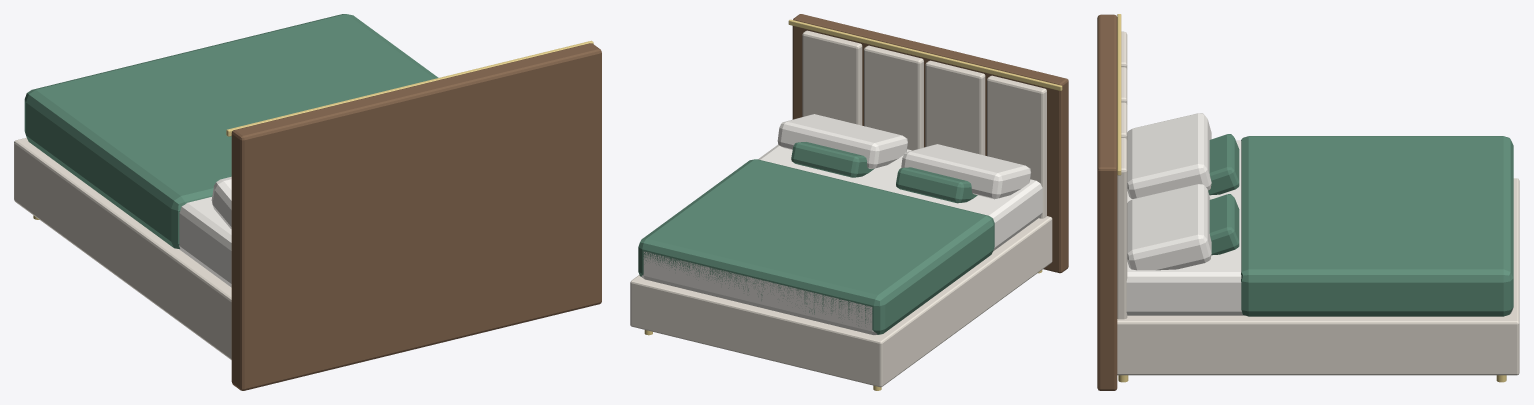
Rendered from yatak-baza.glb.
3 views of the same model, side by side, from view 1: azimuth 30°, elevation 25°; view 2: azimuth 150°, elevation 25°; view 3: azimuth 270°, elevation 25° (orthographic). The views are drawn at different scales.
Visible parts, largest first — view 1: Bed_Headboard_Frame, Bed_Duvet, Bed_Base, Bed_Mattress, Bed_Head_Gold_Trim, Bed_Pillow_Back; view 2: Bed_Duvet, Bed_Base, Bed_Mattress, Bed_Headboard_Frame, Bed_Head_Panel_0, Bed_Head_Panel_2, Bed_Head_Panel_1, Bed_Head_Panel_3, Bed_Pillow_Back, Bed_Pillow_Back.001, Bed_Pillow_Front.001, Bed_Pillow_Front (+1 smaller); view 3: Bed_Duvet, Bed_Base, Bed_Headboard_Frame, Bed_Mattress, Bed_Pillow_Back.001, Bed_Pillow_Back, Bed_Head_Panel_3, Bed_Pillow_Front, Bed_Pillow_Front.001, Bed_Head_Gold_Trim.
Part boxes in pixels (box(x1,y1,x2,y2)): Bed_Headboard_Frame: box(231, 43, 601, 390); Bed_Duvet: box(24, 14, 438, 248); Bed_Base: box(14, 138, 231, 359); Bed_Mattress: box(179, 197, 231, 287); Bed_Head_Gold_Trim: box(226, 40, 593, 136); Bed_Pillow_Back: box(211, 176, 231, 228); Bed_Duvet: box(638, 159, 994, 334); Bed_Base: box(630, 216, 1052, 387); Bed_Mattress: box(641, 144, 1042, 335); Bed_Headboard_Frame: box(792, 14, 1068, 273); Bed_Head_Panel_0: box(987, 75, 1046, 218); Bed_Head_Panel_2: box(864, 45, 923, 150); Bed_Head_Panel_1: box(925, 60, 985, 155); Bed_Head_Panel_3: box(802, 30, 862, 125); Bed_Pillow_Back: box(901, 144, 1030, 199); Bed_Pillow_Back.001: box(777, 114, 907, 169); Bed_Pillow_Front.001: box(791, 142, 874, 177); Bed_Pillow_Front: box(896, 167, 977, 203); Bed_Duvet: box(1241, 136, 1513, 316); Bed_Base: box(1117, 178, 1519, 375); Bed_Headboard_Frame: box(1097, 14, 1117, 390); Bed_Mattress: box(1126, 140, 1513, 315); Bed_Pillow_Back.001: box(1127, 184, 1211, 270); Bed_Pillow_Back: box(1127, 113, 1211, 198); Bed_Head_Panel_3: box(1117, 137, 1127, 319); Bed_Pillow_Front: box(1208, 134, 1239, 195); Bed_Pillow_Front.001: box(1209, 194, 1239, 255); Bed_Head_Gold_Trim: box(1117, 14, 1121, 175).
Size of the model in its own units: 1.86 by 1.24 by 2.12.
